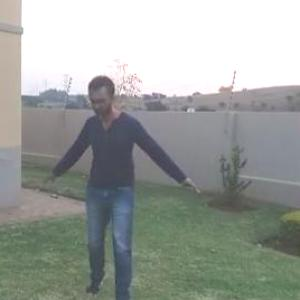land: (40, 63, 215, 299)
